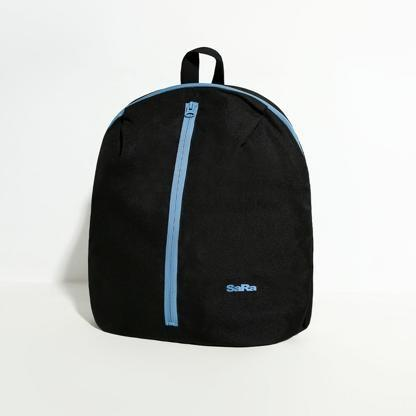not trash: (88, 48, 312, 343)
